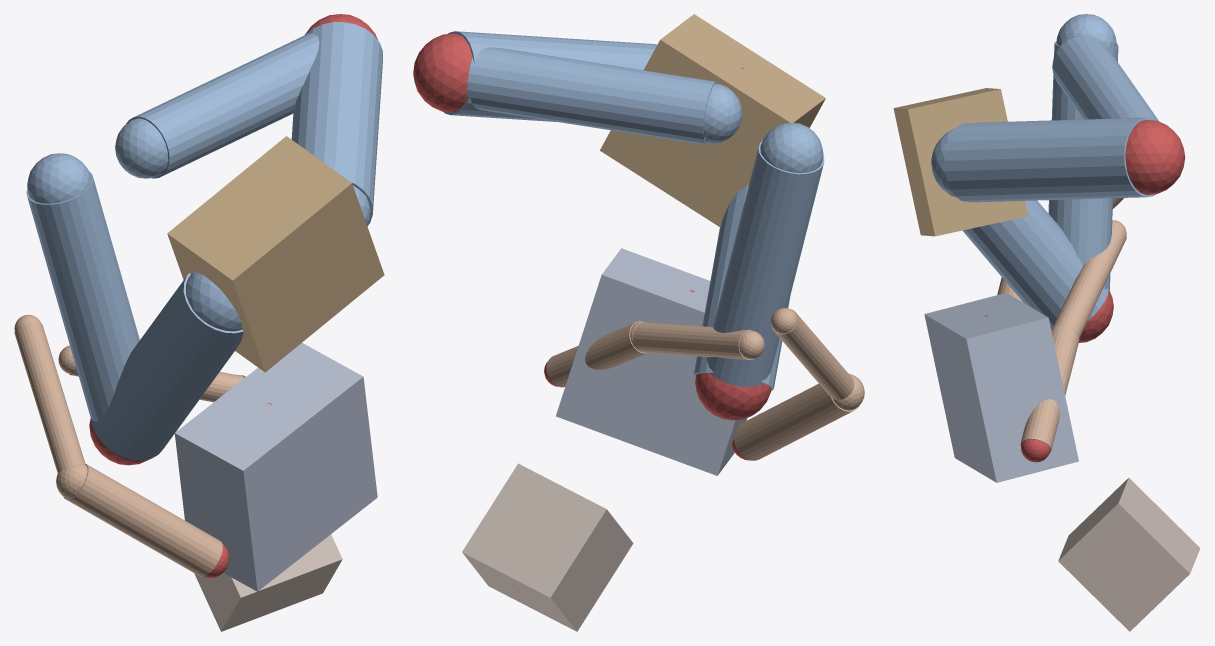
File: maquette_modified.glb
3 views of the same model, side by side, from view 1: azimuth 30°, elevation 25°; view 2: azimuth 150°, elevation 25°; view 3: azimuth 270°, elevation 25° (orthographic). The views are drawn at different scales.
Visible parts, largest first — view 1: world; view 2: world; view 3: world.
Part boxes in pixels (x1,y1,x2,y2): world: (14, 14, 384, 631); world: (413, 14, 864, 631); world: (893, 14, 1200, 631).
Size of the model in its own units: 0.6497 by 0.9367 by 0.4835.
